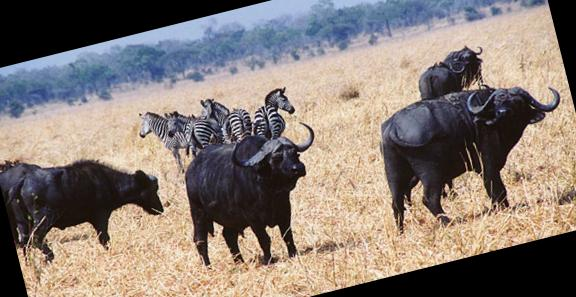Buffalo: (384, 23, 576, 211), (227, 122, 337, 226)
